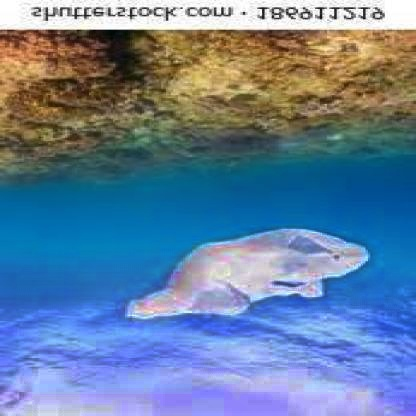pbag: (120, 226, 373, 322)
